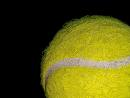tennis ball: (40, 13, 130, 97)
